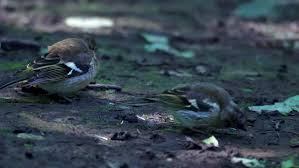home_sparrow: (0, 33, 108, 118), (142, 78, 266, 141)
